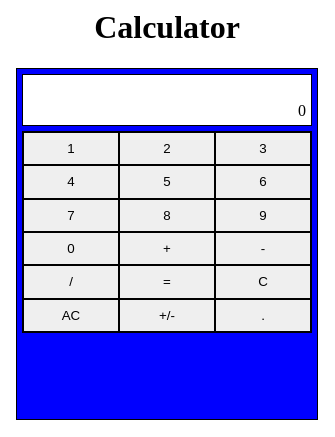
Scenario: calculator should render a keyboard › with operator buttons › where a user can press +
Click the button "+" at (167, 249), box [119, 232, 215, 265]
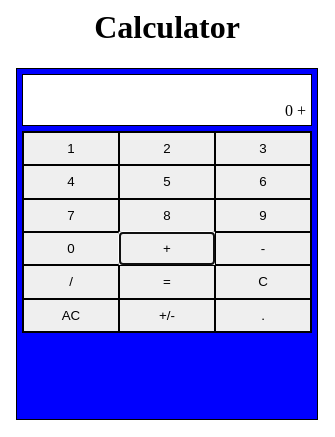
Expected: the text with test id "Display" reads "0 +", [285, 102, 306, 119]
